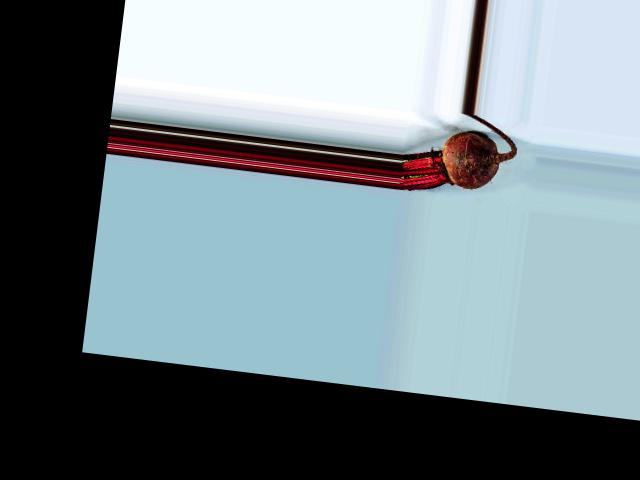beet: (397, 106, 520, 203)
